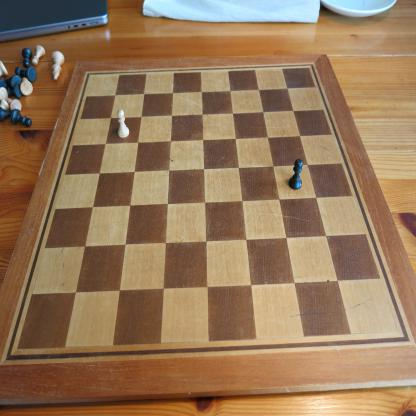black-pawn: (288, 158, 304, 191), (10, 108, 32, 128), (21, 48, 32, 68)
white-bishop: (51, 50, 66, 82)
white-pawn: (117, 109, 130, 139), (32, 44, 46, 66)
